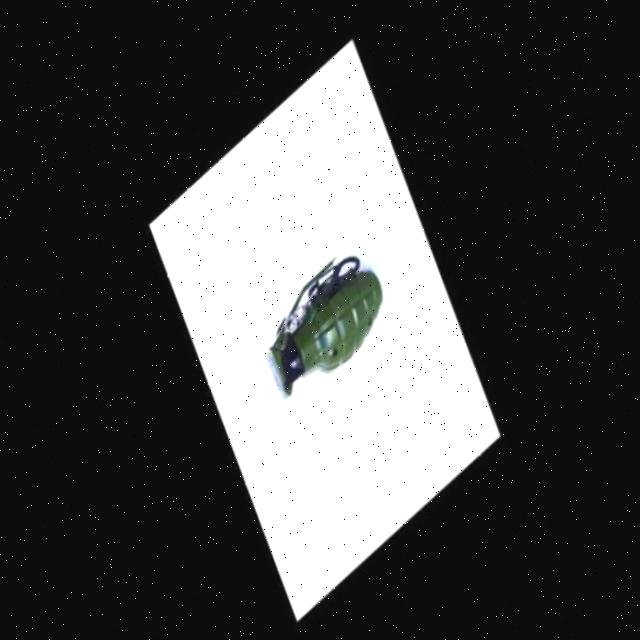grenade: (254, 232, 406, 428)
